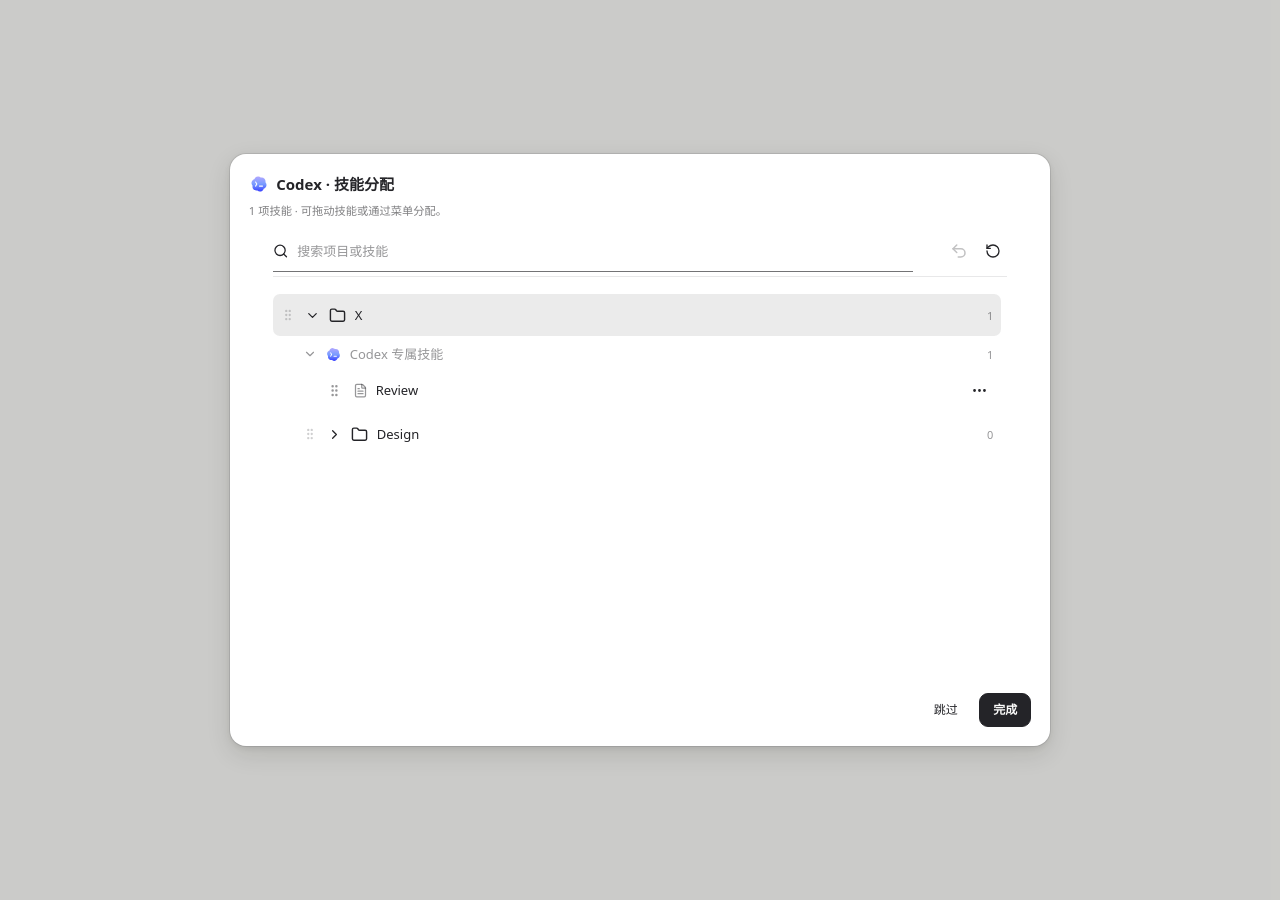
Test case: Escape closes only the nested move destination dialog
Click the button named "Review 的操作" at (979, 390), box [965, 376, 993, 404]
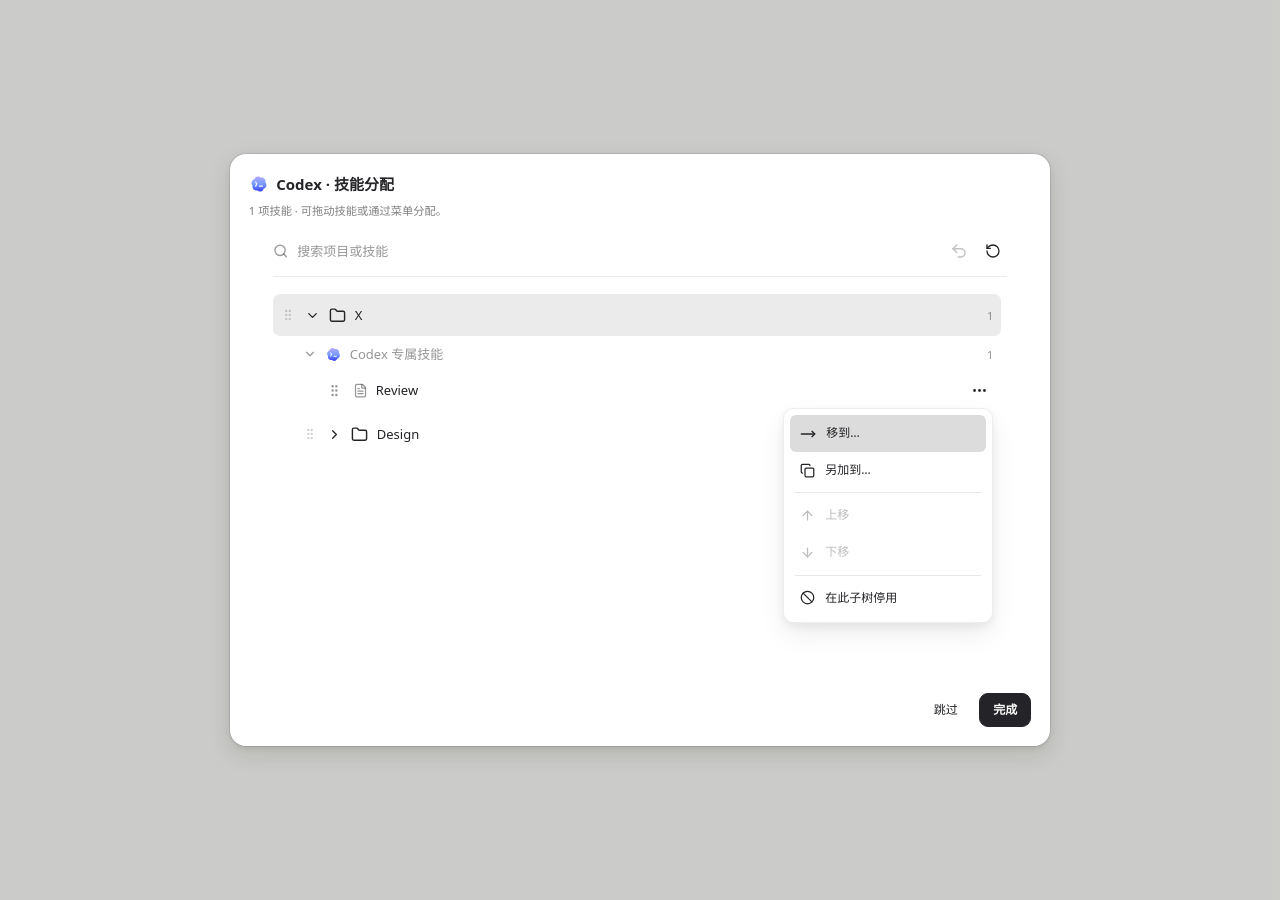
Click the menu item "移到…" at (888, 434), box [790, 415, 986, 452]
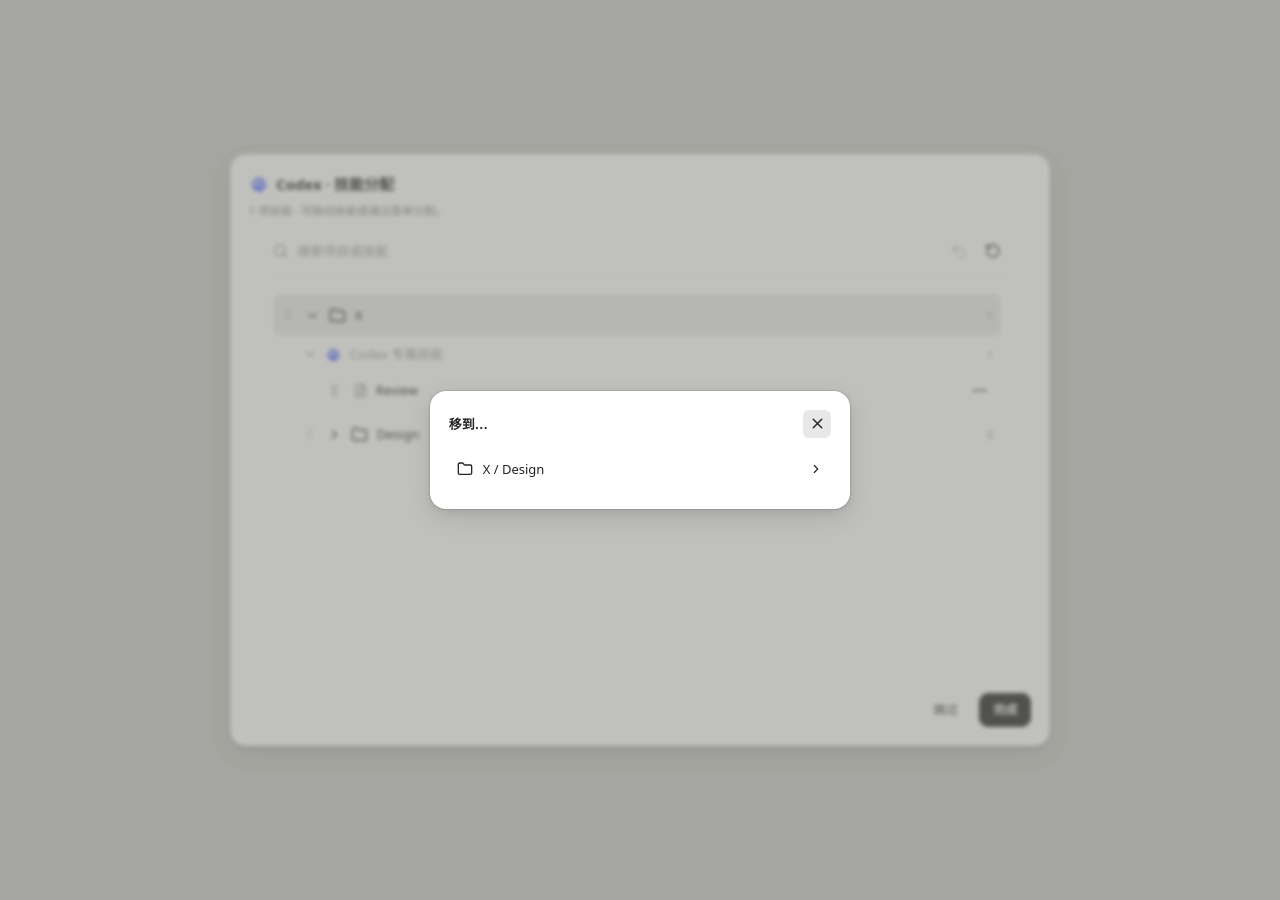
Expected: the dialog "移到…" is shown, [449, 410, 831, 490]
Press Escape
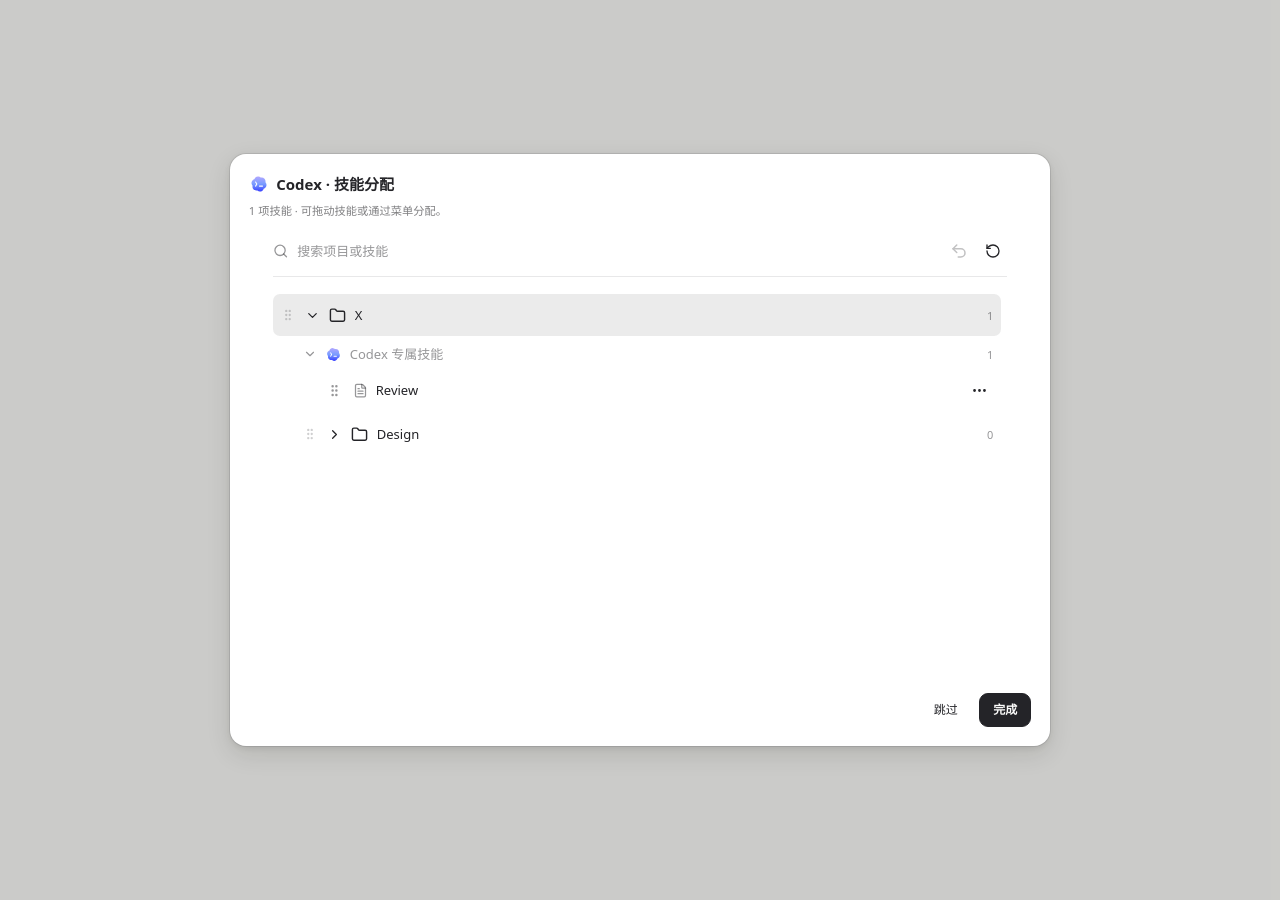
Expected: the dialog "Codex · 技能分配" is shown, [249, 173, 1031, 727]
Expected: the text "移到…" is gone
